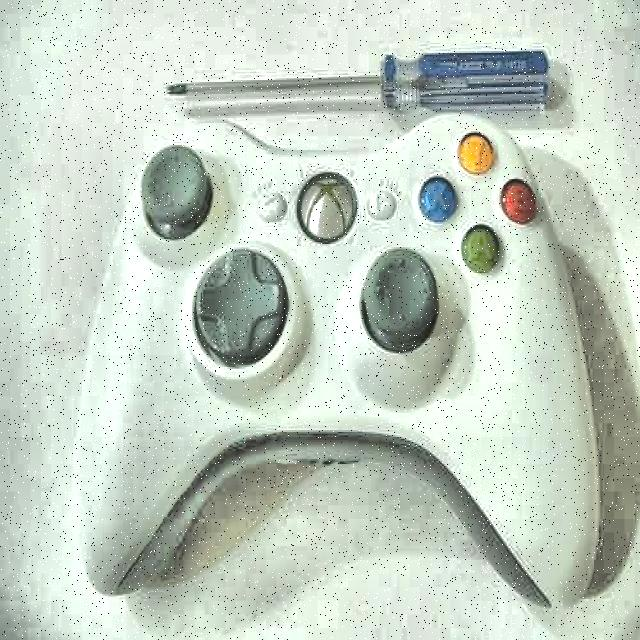screwdriver: (165, 46, 550, 118)
